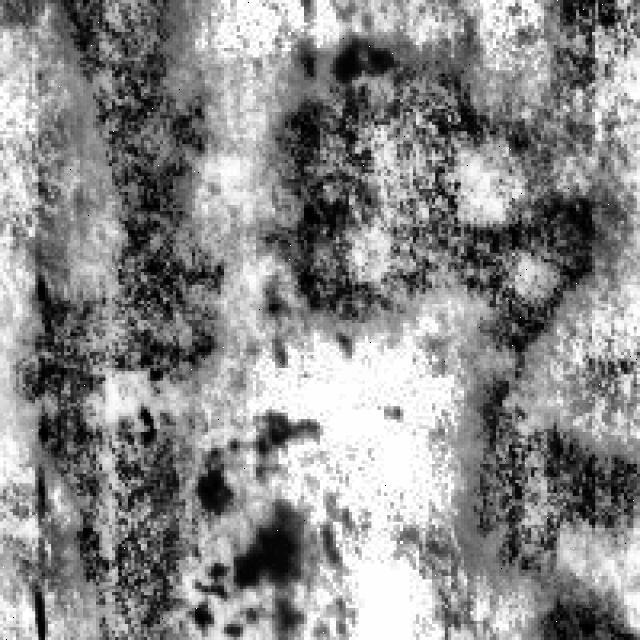Patches: (202, 454, 332, 634), (284, 19, 406, 83)
Scratches: (26, 0, 230, 637), (268, 35, 612, 349), (474, 368, 640, 637)
